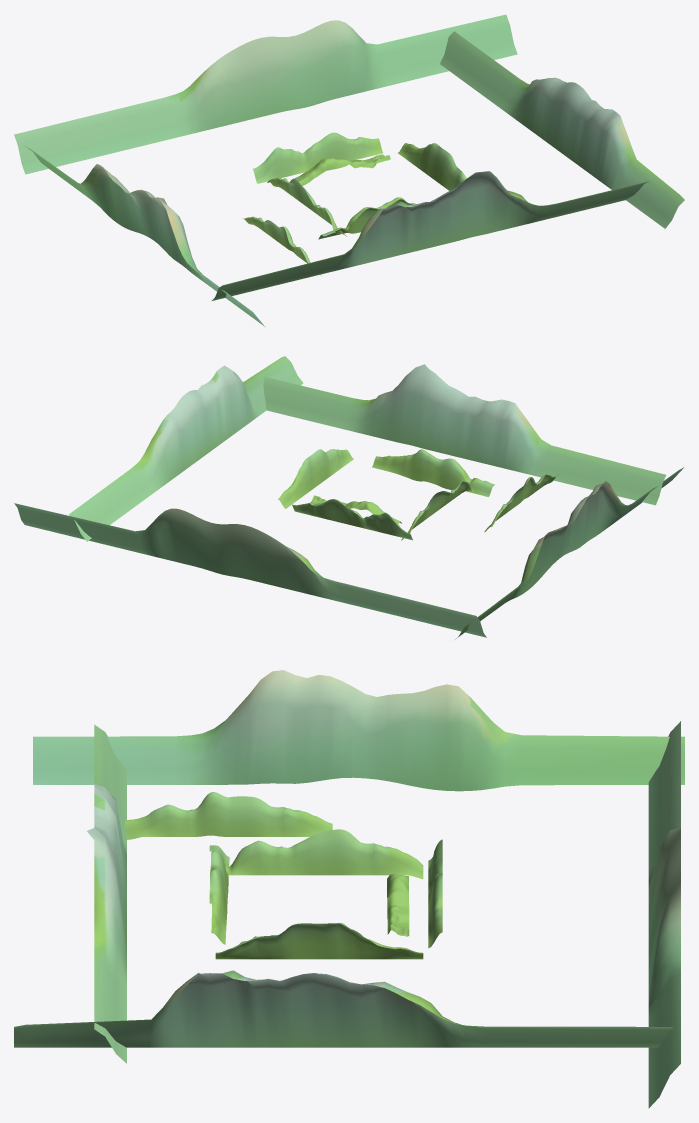
File: background_elements.fbx
3 renders of one model, top to bottom at view 1: azimuth 30°, elevation 25°; view 2: azimuth 150°, elevation 25°; view 3: azimuth 270°, elevation 25°, orthographic. The views are drawn at different scales.
Parts seen in each view (by area): view 1: Landscape; view 2: Landscape; view 3: Landscape.
Part boxes in pixels (x1,y1,x2,y2): Landscape: (14, 14, 684, 327); Landscape: (14, 356, 684, 639); Landscape: (14, 670, 684, 1108).
Size of the model in its own units: 31257 by 5371 by 25849.
